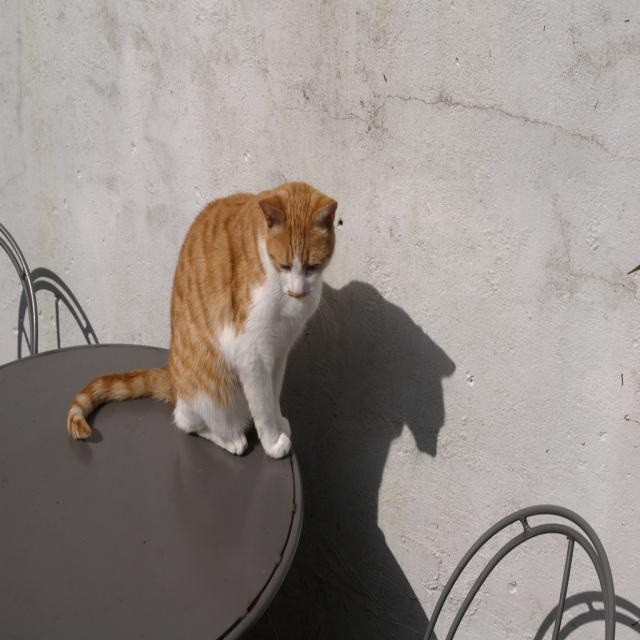Cat: (63, 179, 338, 464)
